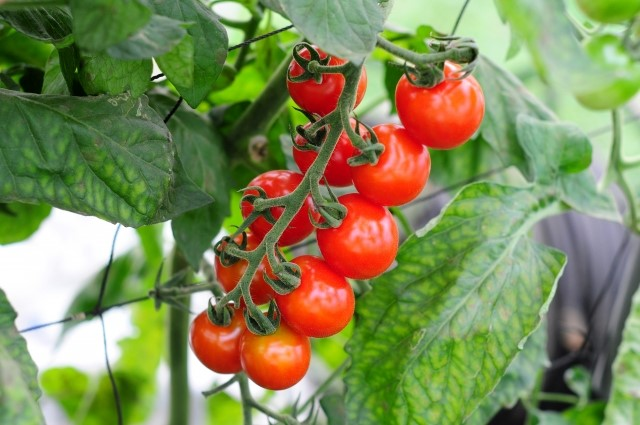stems: (345, 113, 374, 159), (242, 287, 269, 333), (265, 244, 292, 289), (303, 105, 339, 138), (312, 176, 336, 224), (304, 60, 349, 77), (254, 193, 289, 213), (212, 289, 234, 317), (223, 244, 249, 264)
tomato: (395, 59, 485, 150), (317, 193, 400, 279), (349, 124, 432, 207), (274, 255, 355, 339), (241, 170, 318, 247), (286, 42, 367, 115), (292, 116, 372, 189), (240, 313, 312, 391), (214, 233, 287, 308), (189, 303, 257, 374)
